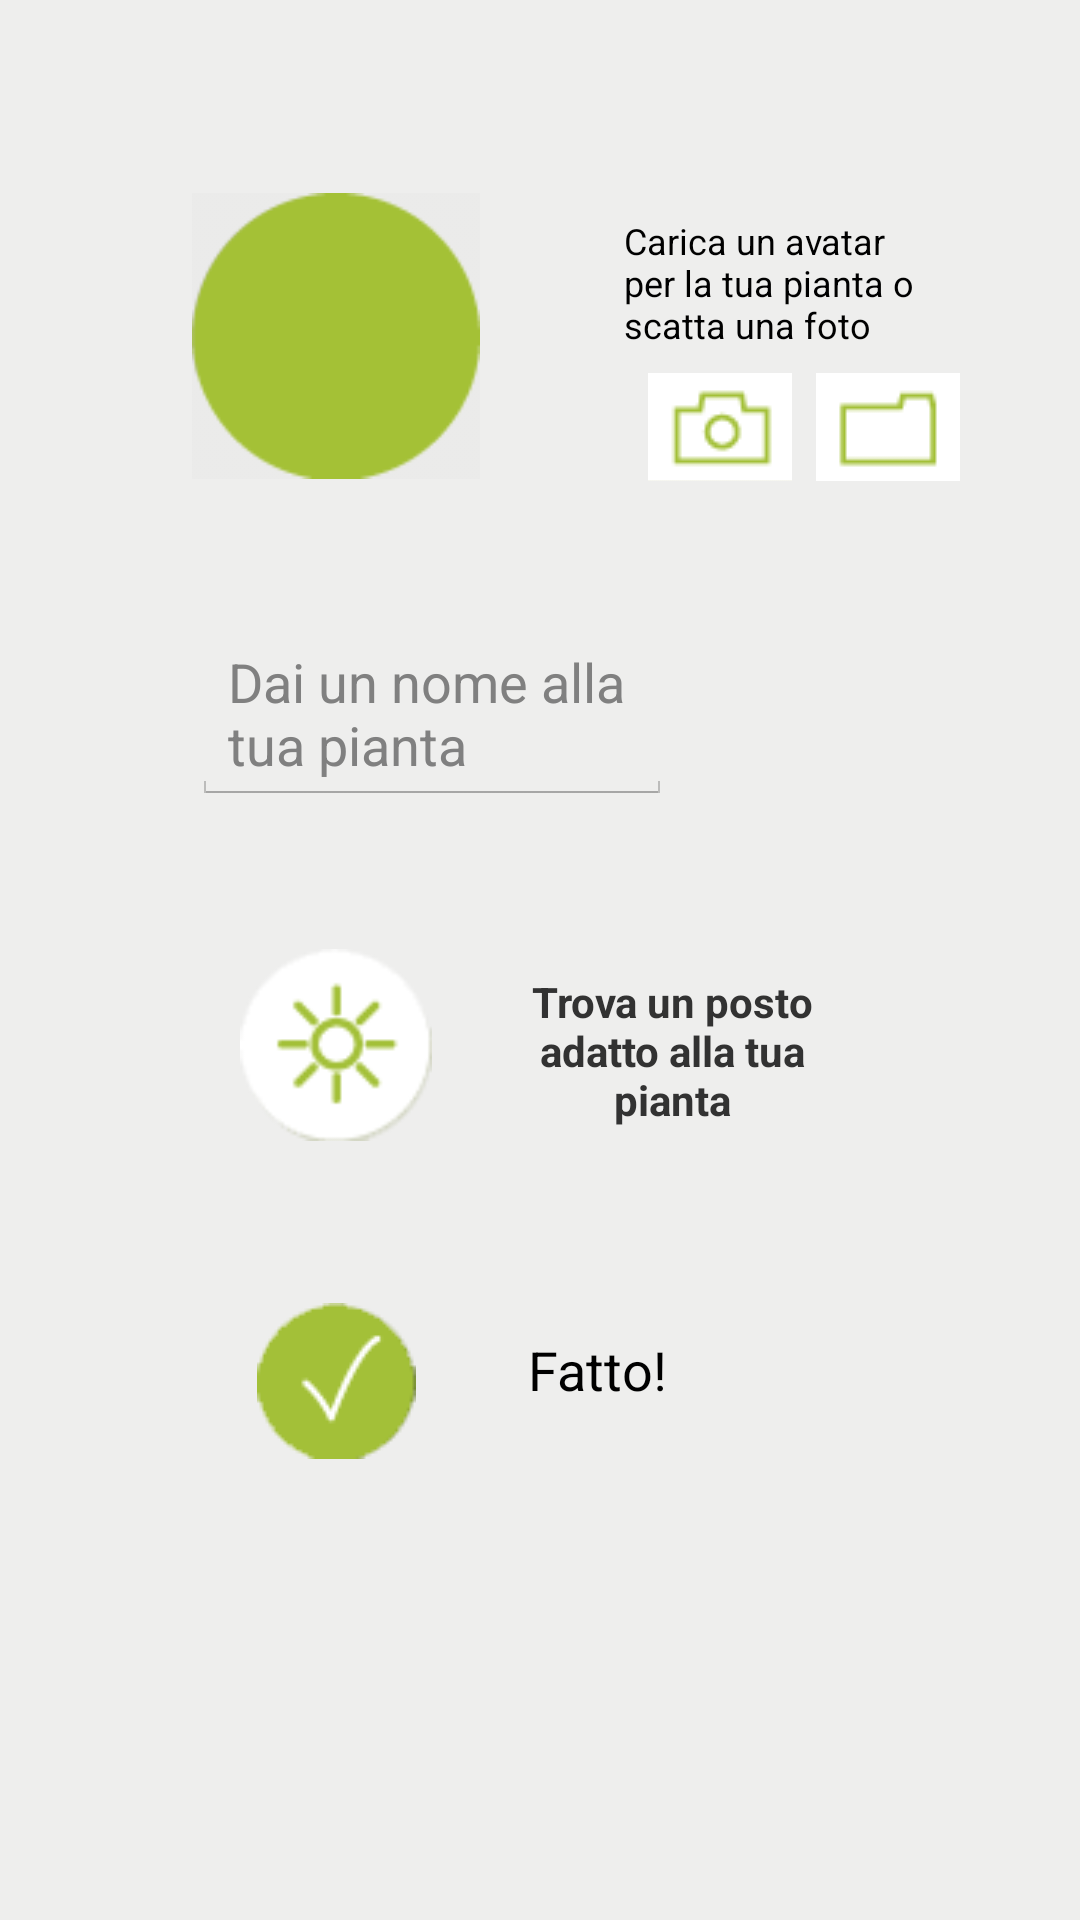

Where icons sit on this 1080px×1920px app screen, as bbox=(x1, y1, x2, y2):
galleria: bbox=(816, 373, 960, 481)
